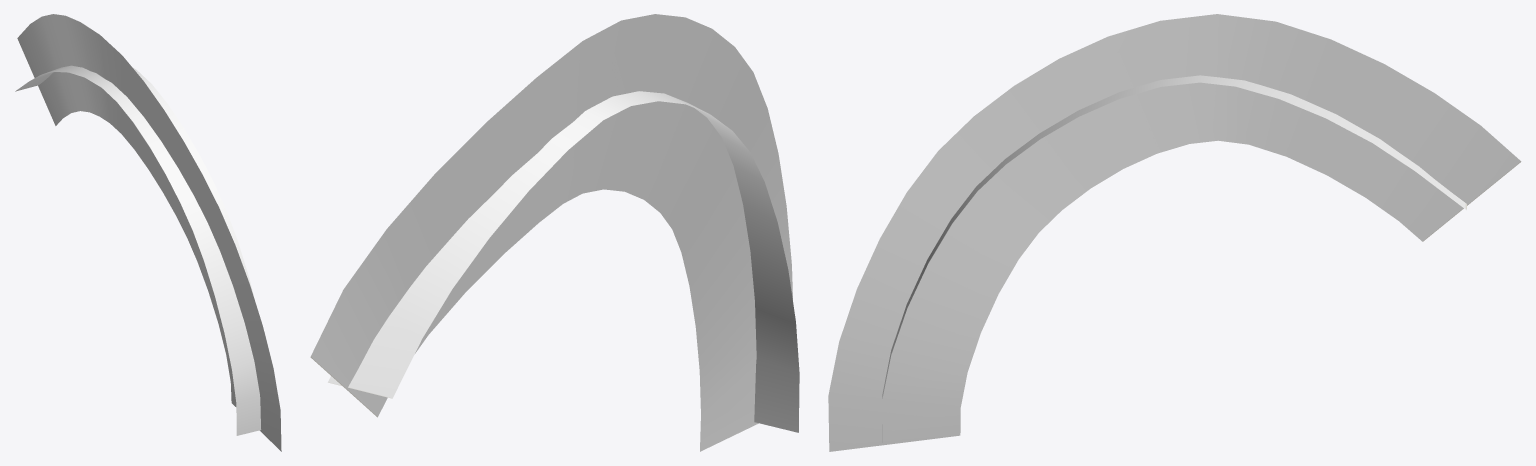
Rendered from 2ssz_fx_attack03.FBX.
The picture shows the model from 3 angles, left to right: view 1: azimuth 30°, elevation 25°; view 2: azimuth 150°, elevation 25°; view 3: azimuth 270°, elevation 25°; orthographic projection. The views are drawn at different scales.
Visible parts, largest first — view 1: Loft001; view 2: Loft001; view 3: Loft001.
Boxes of the visible parts, left/top/right/bottom form: Loft001: left=15, top=14, right=281, bottom=451; Loft001: left=310, top=14, right=799, bottom=451; Loft001: left=828, top=14, right=1521, bottom=451.
Bounding box in the file's own units: 111 × 685 × 1034.
